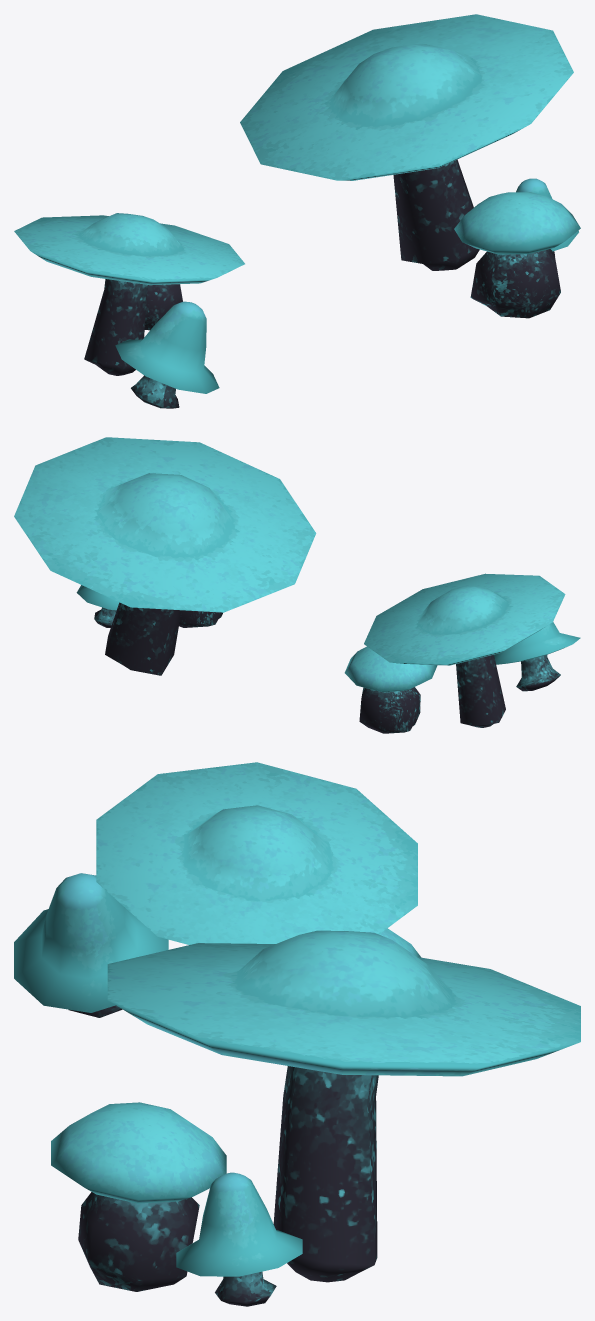
Rendered from CHAMPIGNONS STEP 2.fbx.
3 renders of one model, top to bottom at view 1: azimuth 30°, elevation 25°; view 2: azimuth 150°, elevation 25°; view 3: azimuth 270°, elevation 25°, orthographic. The views are drawn at different scales.
Parts seen in each view (by area): view 1: CHAMPIGNON_ALIX:chapeau_3, chapeau_3, CHAMPIGNON_ALIX:pied_3, chapeau_1, CHAMPIGNON_ALIX:chapeau_2, pied_1, pied_3, CHAMPIGNON_ALIX:pied_1, CHAMPIGNON_ALIX:pied_2, chapeau_2; view 2: CHAMPIGNON_ALIX:chapeau_3, chapeau_3, CHAMPIGNON_ALIX:pied_3, pied_3, CHAMPIGNON_ALIX:chapeau_1, CHAMPIGNON_ALIX:pied_1, CHAMPIGNON_ALIX:chapeau_2, CHAMPIGNON_ALIX:pied_2, pied_1, chapeau_2; view 3: CHAMPIGNON_ALIX:chapeau_3, chapeau_3, CHAMPIGNON_ALIX:pied_3, chapeau_1, CHAMPIGNON_ALIX:chapeau_2, pied_1, chapeau_2, pied_2.
Boxes of the visible parts, x1,y1,x2,y2 form: CHAMPIGNON_ALIX:chapeau_3: (240, 14, 573, 180); chapeau_3: (14, 213, 244, 285); CHAMPIGNON_ALIX:pied_3: (393, 159, 479, 270); chapeau_1: (454, 192, 580, 254); CHAMPIGNON_ALIX:chapeau_2: (115, 301, 219, 393); pied_1: (470, 249, 560, 318); pied_3: (84, 279, 147, 375); CHAMPIGNON_ALIX:pied_1: (144, 284, 182, 330); CHAMPIGNON_ALIX:pied_2: (131, 375, 179, 408); chapeau_2: (516, 178, 578, 251); CHAMPIGNON_ALIX:chapeau_3: (14, 437, 316, 612); chapeau_3: (364, 573, 565, 665); CHAMPIGNON_ALIX:pied_3: (105, 602, 181, 675); pied_3: (456, 655, 505, 727); CHAMPIGNON_ALIX:chapeau_1: (344, 646, 437, 692); CHAMPIGNON_ALIX:pied_1: (359, 687, 420, 733); CHAMPIGNON_ALIX:chapeau_2: (494, 622, 580, 664); CHAMPIGNON_ALIX:pied_2: (516, 655, 560, 691); pied_1: (179, 610, 222, 627); chapeau_2: (76, 585, 119, 610); CHAMPIGNON_ALIX:chapeau_3: (107, 930, 580, 1076); chapeau_3: (96, 762, 417, 944); CHAMPIGNON_ALIX:pied_3: (273, 1066, 378, 1282); chapeau_1: (51, 1102, 226, 1203); CHAMPIGNON_ALIX:chapeau_2: (14, 873, 168, 1012); pied_1: (78, 1192, 199, 1291); chapeau_2: (176, 1172, 302, 1276); pied_2: (215, 1271, 276, 1306).
Size of the model in its own units: 119 by 44.75 by 72.85.
